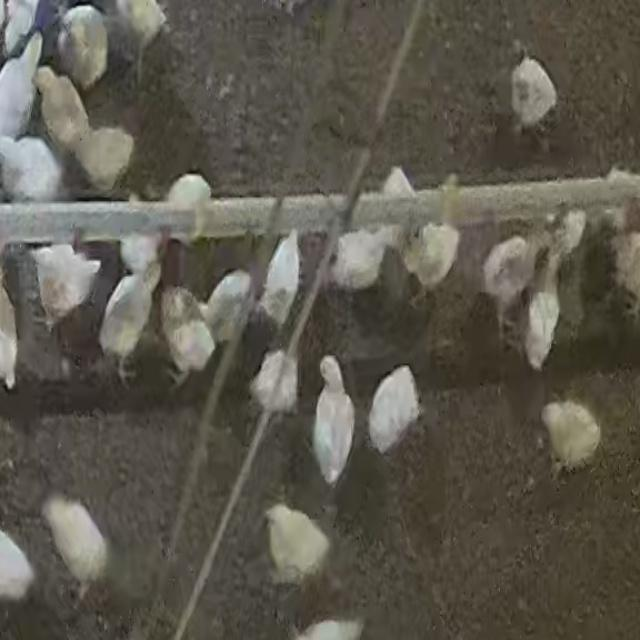chicken: (42, 494, 114, 596), (98, 264, 160, 382), (30, 241, 101, 334), (159, 281, 218, 385), (263, 502, 330, 586), (35, 66, 94, 161), (314, 356, 357, 484), (367, 363, 422, 459), (481, 235, 534, 334), (540, 397, 602, 475), (0, 33, 44, 141), (56, 4, 109, 92), (0, 134, 68, 202), (522, 260, 562, 374), (327, 226, 395, 293), (72, 125, 135, 195), (402, 222, 459, 296), (509, 52, 557, 137), (250, 347, 300, 417), (379, 167, 420, 251), (204, 271, 252, 342), (269, 228, 305, 320), (164, 173, 213, 235), (119, 0, 167, 49), (553, 209, 589, 261), (289, 616, 360, 640)
